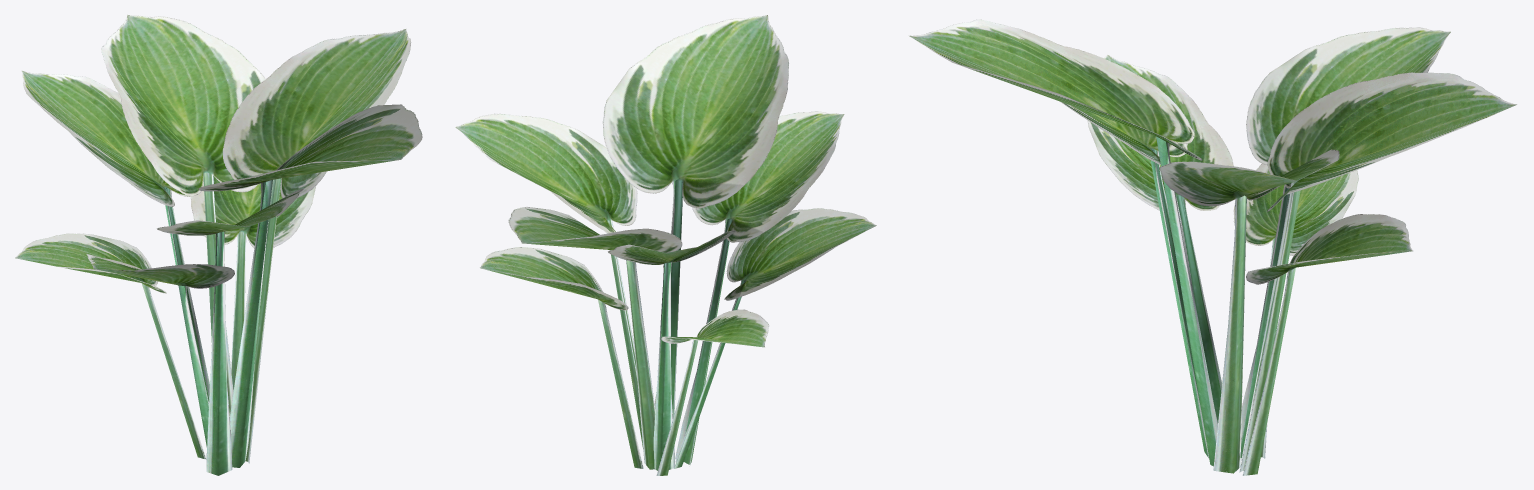
Rendered from plant_small_wg_05C.fbx.
The picture shows the model from 3 angles, left to right: view 1: azimuth 30°, elevation 25°; view 2: azimuth 150°, elevation 25°; view 3: azimuth 270°, elevation 25°; orthographic projection. The views are drawn at different scales.
Visible parts, largest first — view 1: plant_small_wg_05C; view 2: plant_small_wg_05C; view 3: plant_small_wg_05C.
Part boxes in pixels (<box>): plant_small_wg_05C: <box>15,15,422,475</box>; plant_small_wg_05C: <box>455,15,876,475</box>; plant_small_wg_05C: <box>909,19,1516,475</box>.
Bounding box in the file's own units: 45.63 × 43.93 × 55.17.
